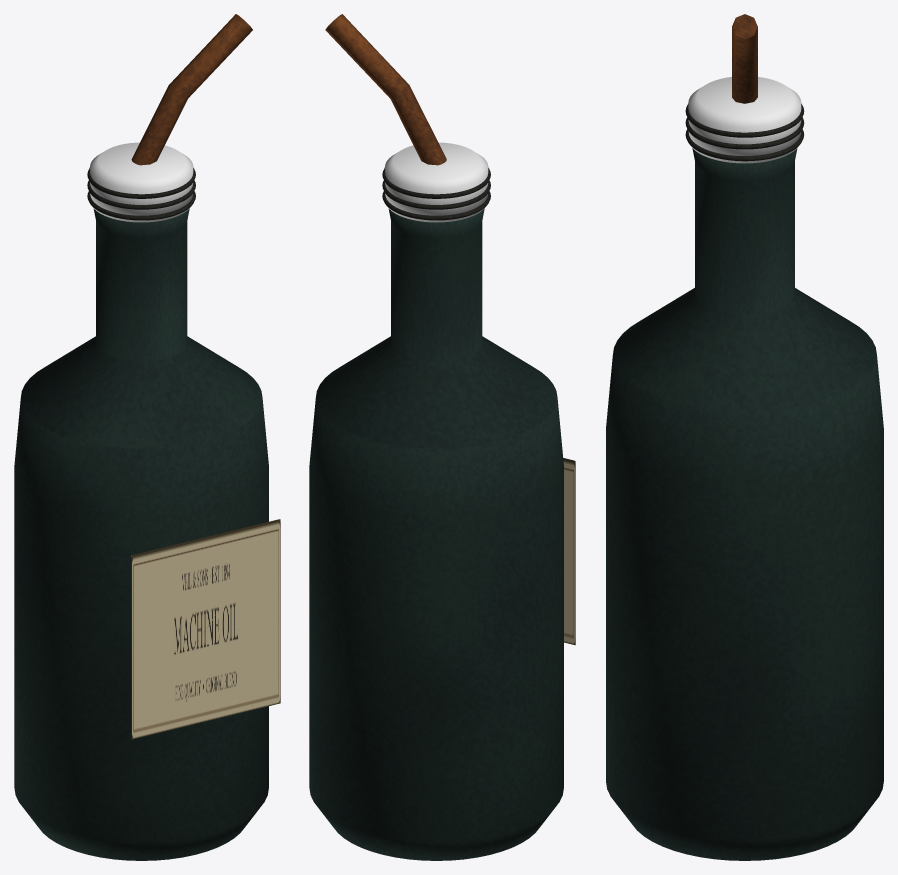
Rendered from Oil.fbx.
The picture shows the model from 3 angles, left to right: view 1: azimuth 30°, elevation 25°; view 2: azimuth 150°, elevation 25°; view 3: azimuth 270°, elevation 25°; orthographic projection. The views are drawn at different scales.
Visible parts, largest first — view 1: Oil_MotorPaint, Oil_Decals, Oil_Walnut, Oil_Copper, Oil_Iron; view 2: Oil_MotorPaint, Oil_Walnut, Oil_Copper, Oil_Decals, Oil_Iron; view 3: Oil_MotorPaint, Oil_Walnut, Oil_Iron, Oil_Copper.
Part boxes in pixels (x1,y1,x2,y2): Oil_MotorPaint: (14,209,268,860); Oil_Decals: (131,519,280,739); Oil_Walnut: (90,142,193,222); Oil_Copper: (131,14,252,165); Oil_Iron: (87,167,195,220); Oil_MotorPaint: (309,209,563,860); Oil_Walnut: (385,142,488,222); Oil_Copper: (325,14,446,165); Oil_Decals: (563,458,575,645); Oil_Iron: (382,167,490,220); Oil_MotorPaint: (606,148,883,860); Oil_Walnut: (688,77,801,163); Oil_Iron: (685,103,804,161); Oil_Copper: (732,14,757,103).
Size of the model in its own units: 15 by 50.55 by 15.1.
